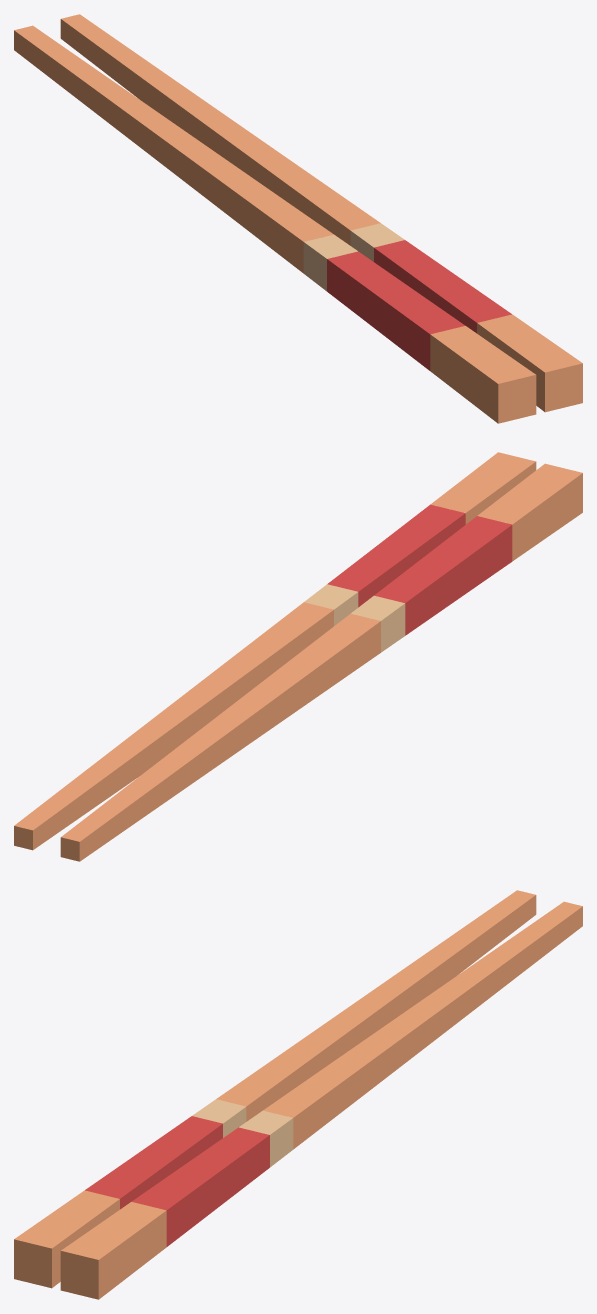
The model's file is chopstick.glb.
The picture shows the model from 3 angles, top to bottom: view 1: azimuth 30°, elevation 25°; view 2: azimuth 150°, elevation 25°; view 3: azimuth 330°, elevation 25°; orthographic projection.
Visible parts, largest first — view 1: chopstickFancy.001, chopstickFancy; view 2: chopstickFancy.001, chopstickFancy; view 3: chopstickFancy, chopstickFancy.001.
Boxes of the visible parts, x1,y1,x2,y2 form: chopstickFancy.001: (14, 25, 536, 423); chopstickFancy: (60, 14, 582, 412); chopstickFancy.001: (60, 463, 582, 861); chopstickFancy: (14, 452, 536, 850); chopstickFancy: (60, 901, 582, 1299); chopstickFancy.001: (14, 890, 536, 1288).
Size of the model in its own units: 0.0446 by 0.02 by 0.45.
